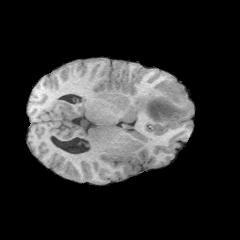glioma: (125, 91, 181, 126)
